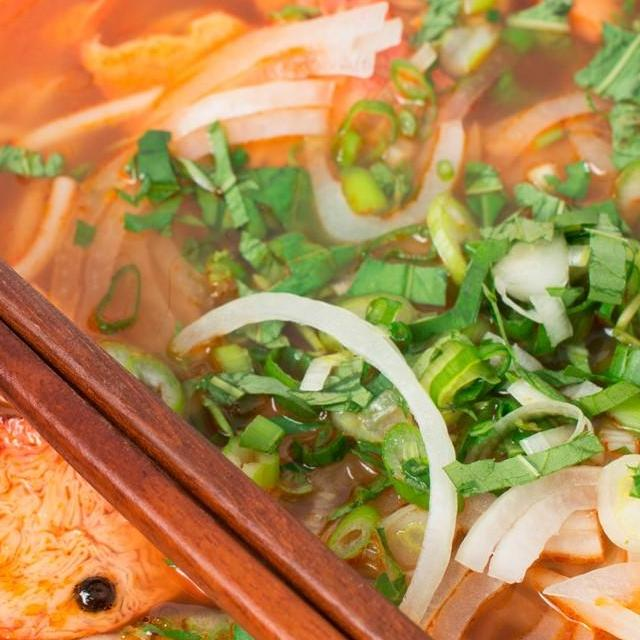bun: (0, 59, 181, 323)
